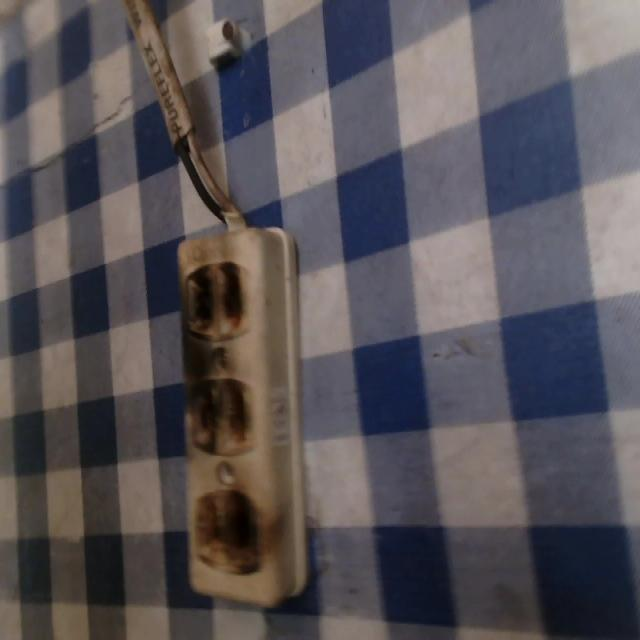-: (190, 487, 263, 572), (187, 375, 254, 456), (181, 259, 247, 340)
